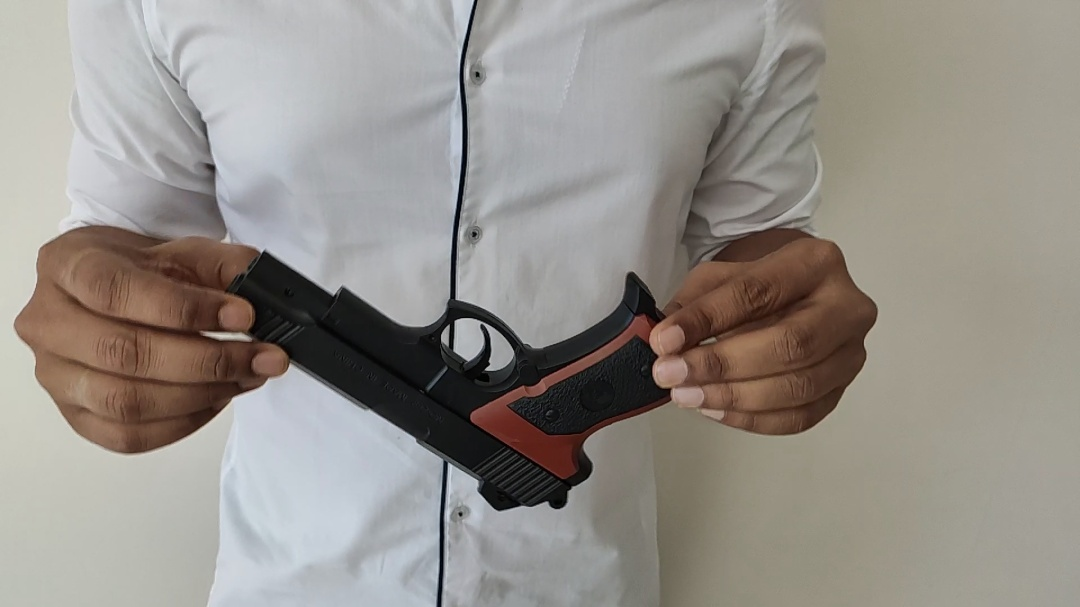gun: (231, 247, 679, 514)
